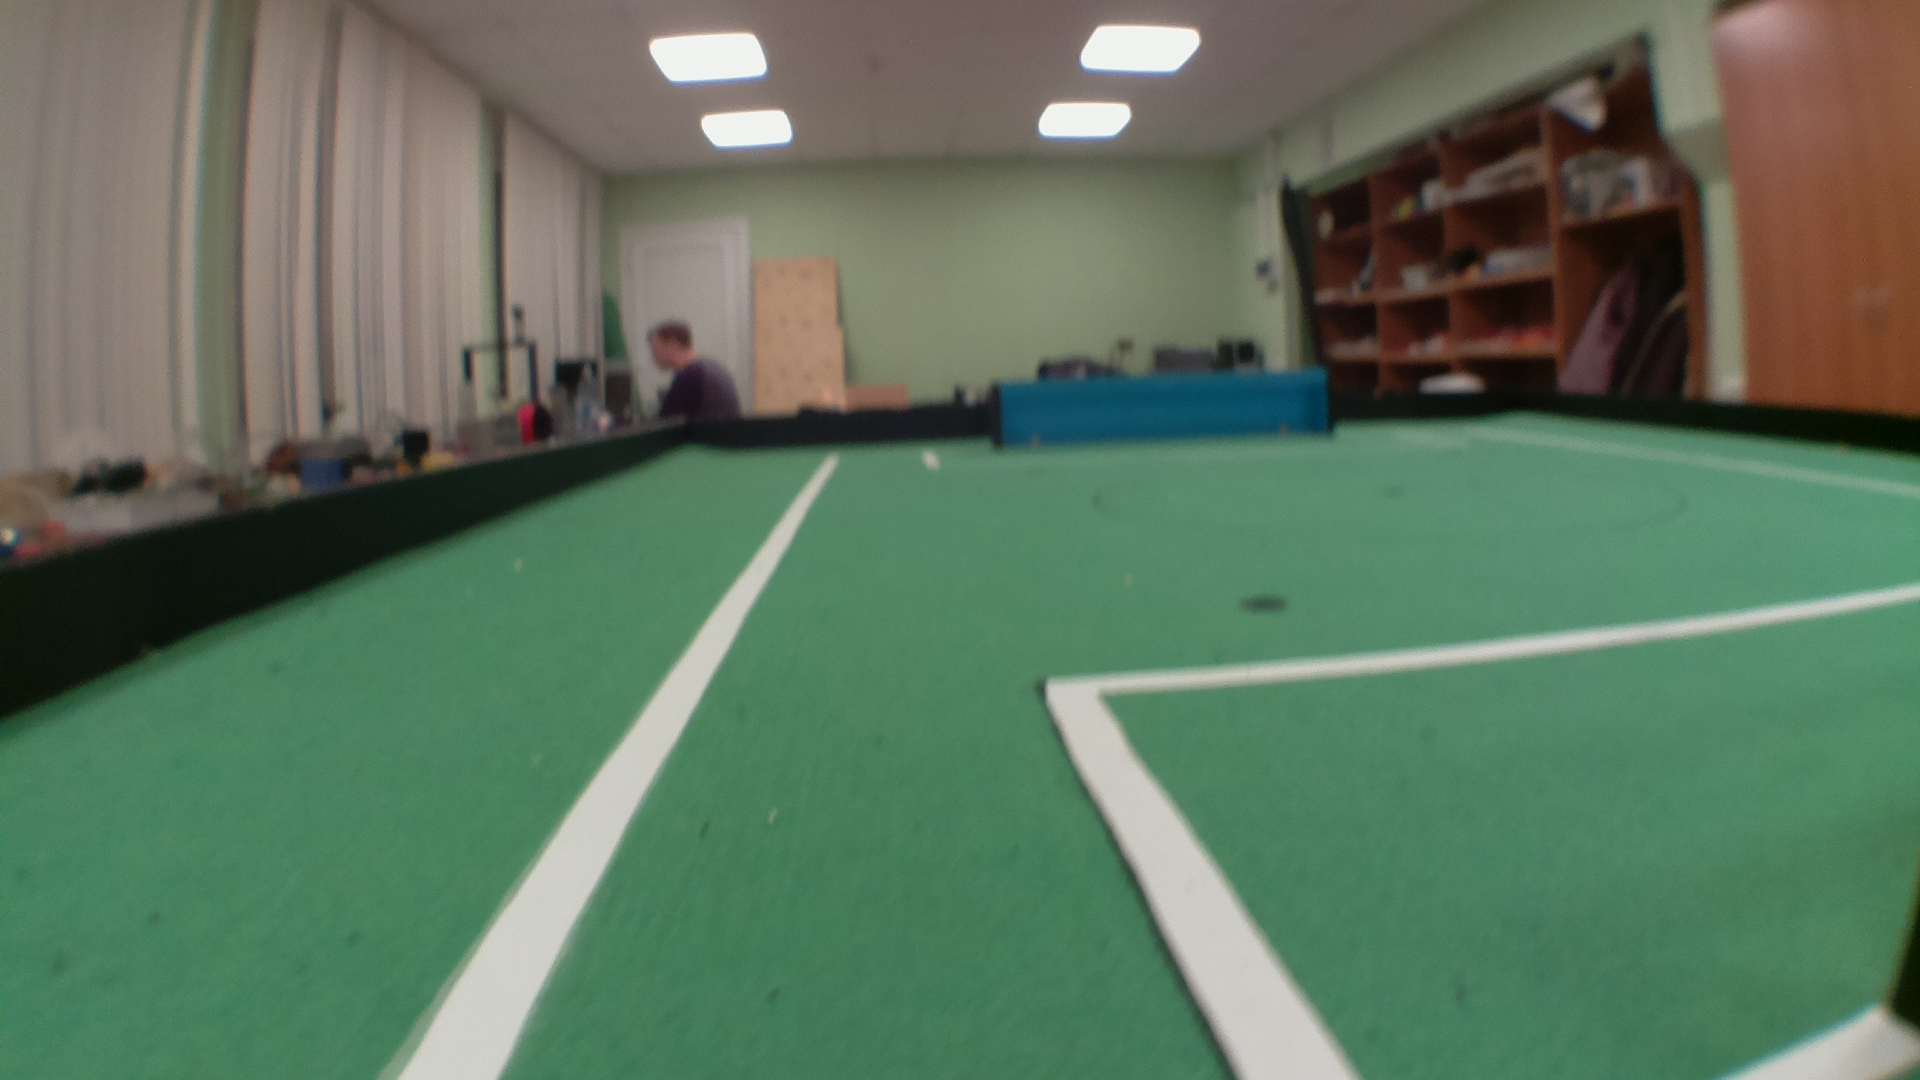BlueGoal: (1000, 371, 1328, 448)
